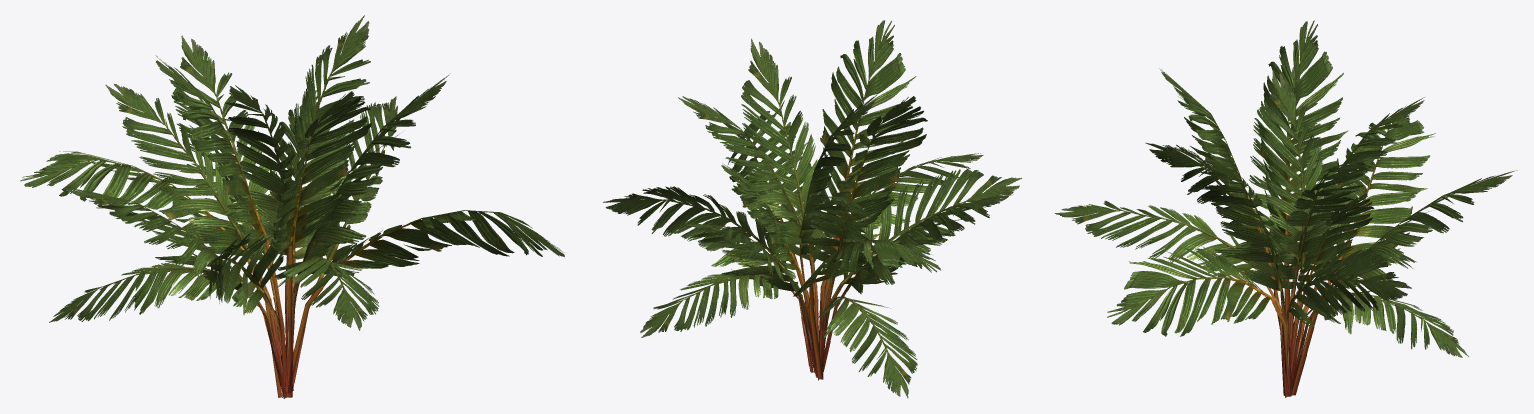
The model's file is MK4_OrangePalm1.DAE.
3 views of the same model, side by side, from view 1: azimuth 30°, elevation 25°; view 2: azimuth 150°, elevation 25°; view 3: azimuth 270°, elevation 25° (orthographic). The views are drawn at different scales.
Parts seen in each view (by area): view 1: MK4_OrangePalm80, MK4_OrangePalm20; view 2: MK4_OrangePalm80, MK4_OrangePalm20; view 3: MK4_OrangePalm80, MK4_OrangePalm20.
Part boxes in pixels (<box>): MK4_OrangePalm80: <box>20,15,564,398</box>; MK4_OrangePalm20: <box>20,16,564,328</box>; MK4_OrangePalm80: <box>603,20,1021,397</box>; MK4_OrangePalm20: <box>604,20,1017,394</box>; MK4_OrangePalm80: <box>1055,20,1517,397</box>; MK4_OrangePalm20: <box>1056,21,1511,356</box>.
Size of the model in its own units: 20.38 by 22.41 by 17.44.
